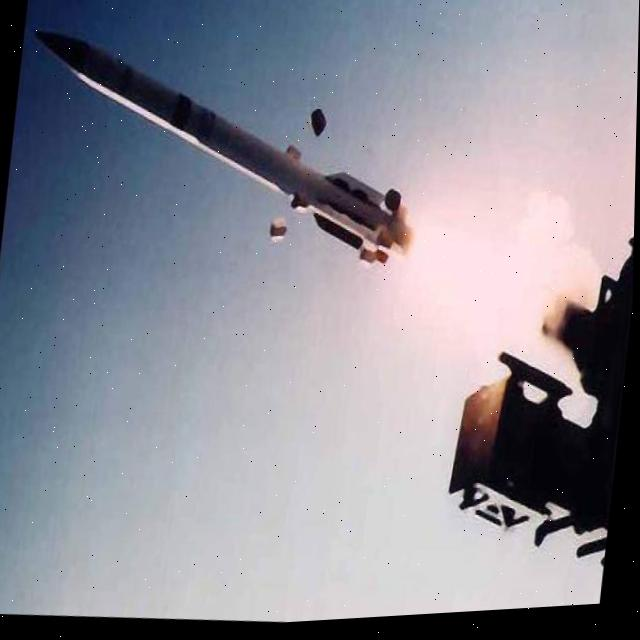missile: (9, 4, 435, 291)
